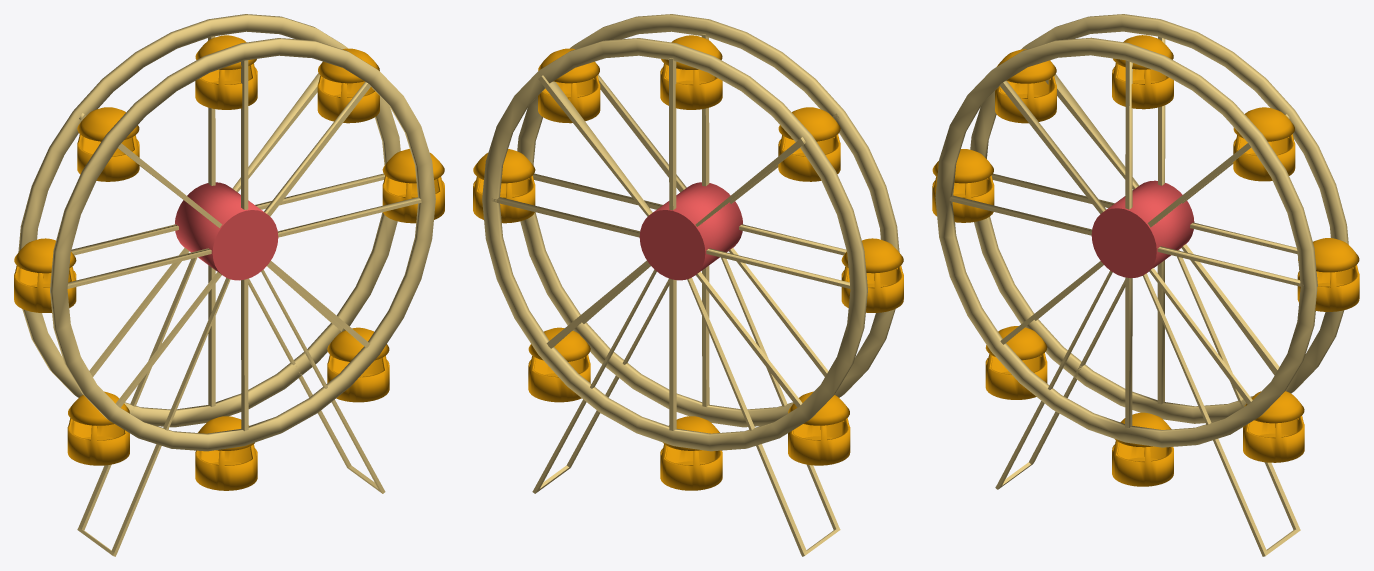
The model's file is ferriswheel.fbx.
3 views of the same model, side by side, from view 1: azimuth 30°, elevation 25°; view 2: azimuth 150°, elevation 25°; view 3: azimuth 330°, elevation 25° (orthographic).
Parts seen in each view (by area): view 1: ring, baskets, center; view 2: ring, baskets, center; view 3: ring, baskets, center.
Boxes of the visible parts, x1=… form: ring: x1=18, y1=14, x2=435, y2=556; baskets: x1=14, y1=35, x2=444, y2=490; center: x1=174, y1=182, x2=278, y2=280; ring: x1=482, y1=14, x2=899, y2=556; baskets: x1=473, y1=35, x2=903, y2=490; center: x1=639, y1=182, x2=742, y2=280; ring: x1=935, y1=14, x2=1348, y2=556; baskets: x1=932, y1=35, x2=1359, y2=486; center: x1=1091, y1=180, x2=1194, y2=278.
Bounding box in the file's own units: 73.3 × 79.96 × 11.69.
